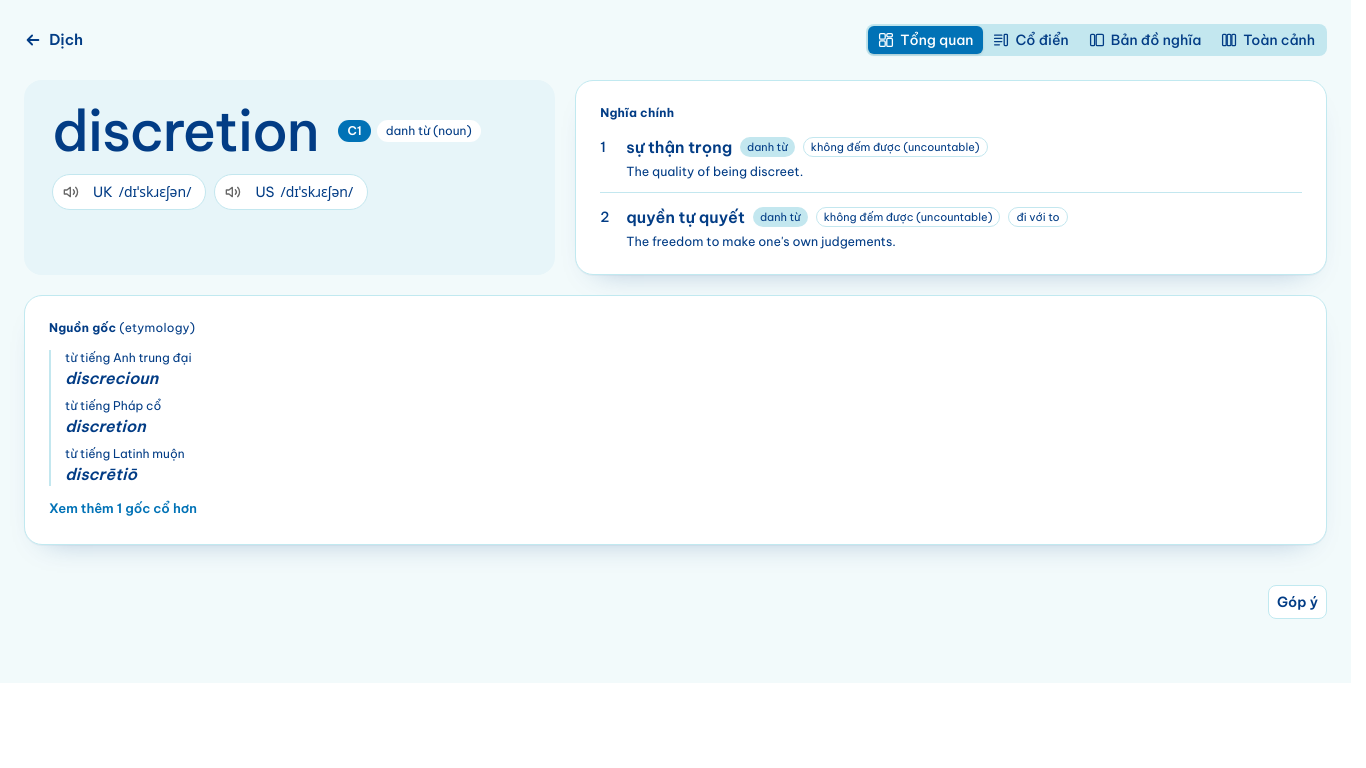
Test: word notes › folds the older ancestors behind a button
The image size is (1366, 768).
Click the button "Xem thêm 1 gốc cổ hơn". click: x=123, y=508
box: x1=49 y1=496 x2=197 y2=520
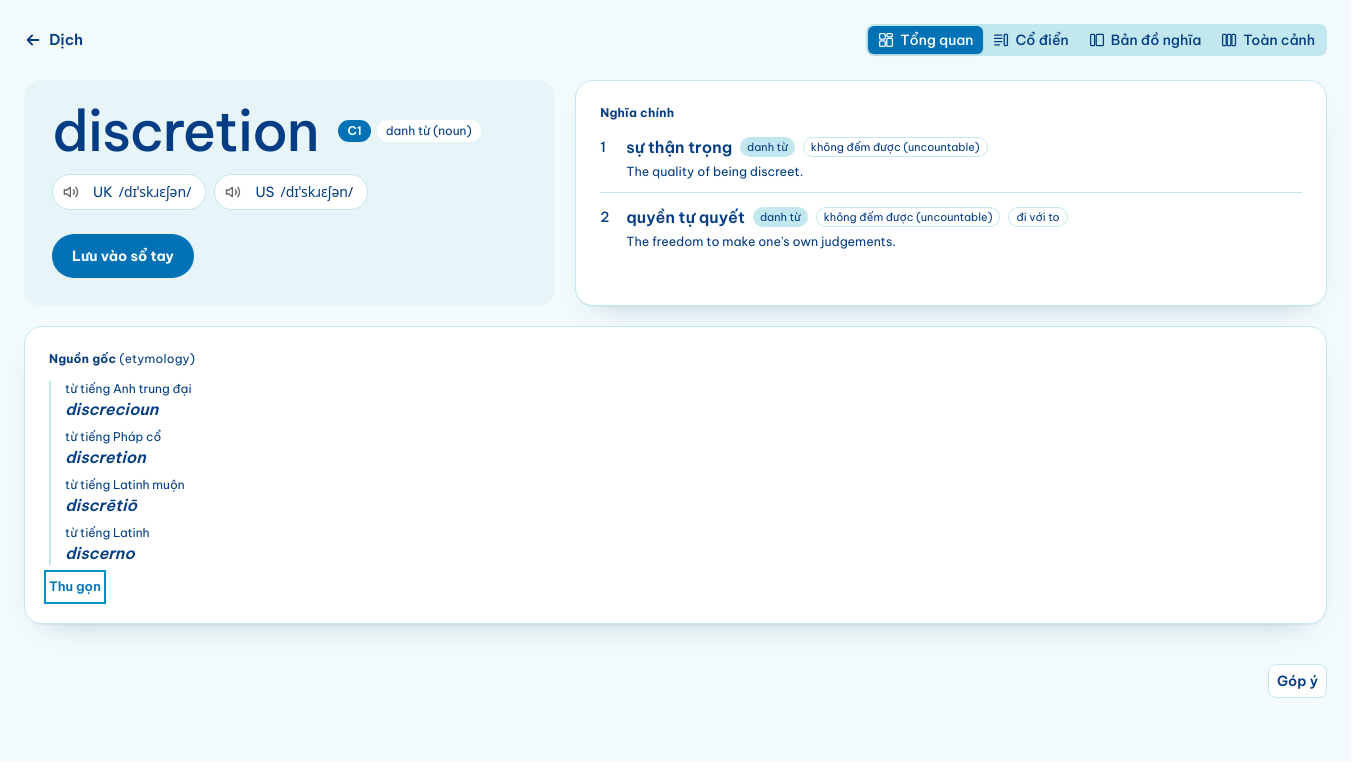
Expected: the text "discerno" is shown, x1=65 y1=541 x2=135 y2=565
Expected: the text "từ tiếng Latinh" is shown, x1=65 y1=525 x2=150 y2=540
